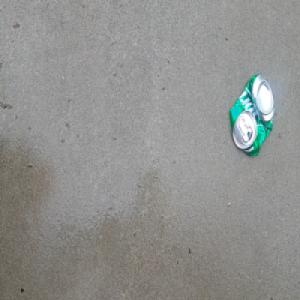SodaCan: (227, 72, 275, 159)
